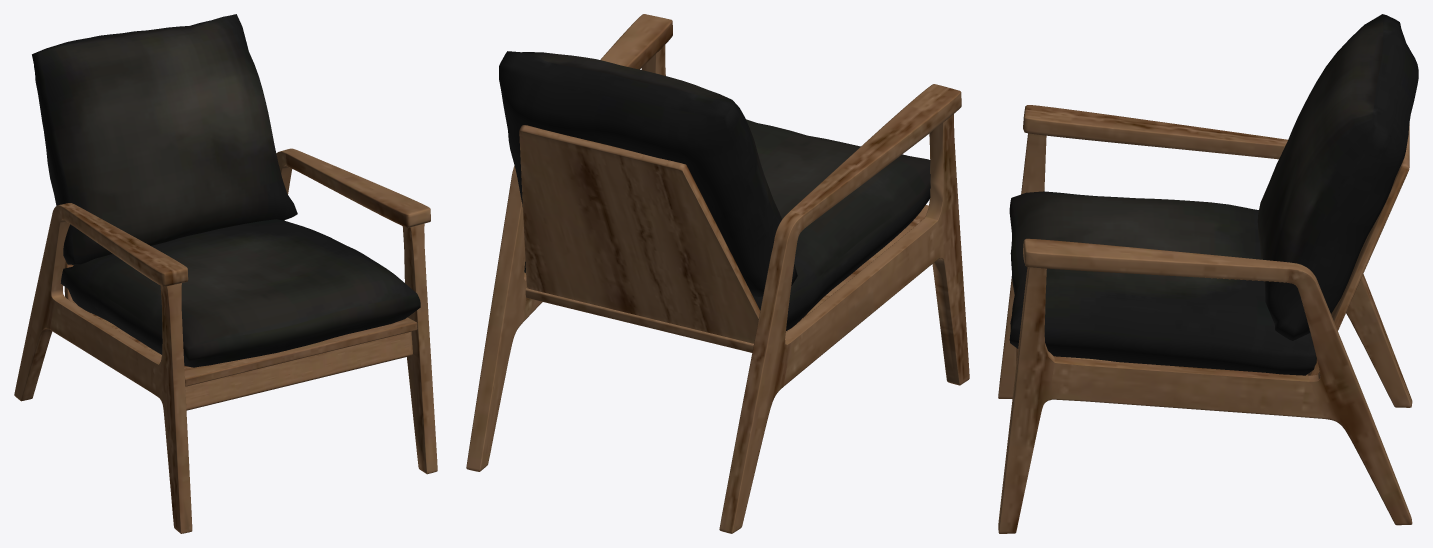
File: modern_arm_chair_01.glb
3 renders of one model, left to right at view 1: azimuth 30°, elevation 25°; view 2: azimuth 150°, elevation 25°; view 3: azimuth 270°, elevation 25°, orthographic. The views are drawn at different scales.
Visible parts, largest first — view 1: modern_arm_chair_01; view 2: modern_arm_chair_01; view 3: modern_arm_chair_01.
Part boxes in pixels (x1,y1,x2,y2): modern_arm_chair_01: (14, 14, 437, 533); modern_arm_chair_01: (466, 14, 969, 533); modern_arm_chair_01: (998, 14, 1418, 533).
Size of the model in its own units: 0.8203 by 1.02 by 0.9865.
Materials: 2 (2 with a texture image).
